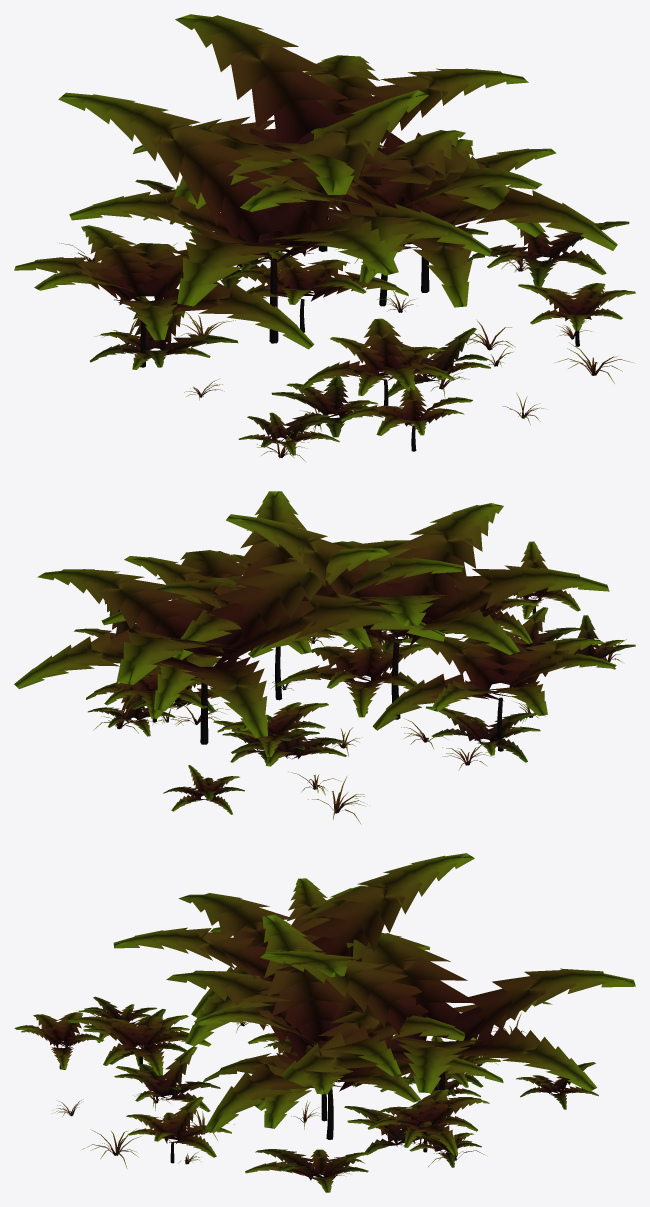
File: patch_palm.glb
The picture shows the model from 3 angles, top to bottom: view 1: azimuth 30°, elevation 25°; view 2: azimuth 150°, elevation 25°; view 3: azimuth 270°, elevation 25°; orthographic projection. The views are drawn at different scales.
Parts seen in each view (by area): view 1: patch_palm; view 2: patch_palm; view 3: patch_palm.
Boxes of the visible parts, bbox=[...] form: patch_palm: bbox=[14, 14, 635, 462]; patch_palm: bbox=[14, 491, 635, 824]; patch_palm: bbox=[14, 853, 635, 1192].
Bounding box in the file's own units: 13.31 × 4.46 × 14.66.
1 material, 1 textured.
